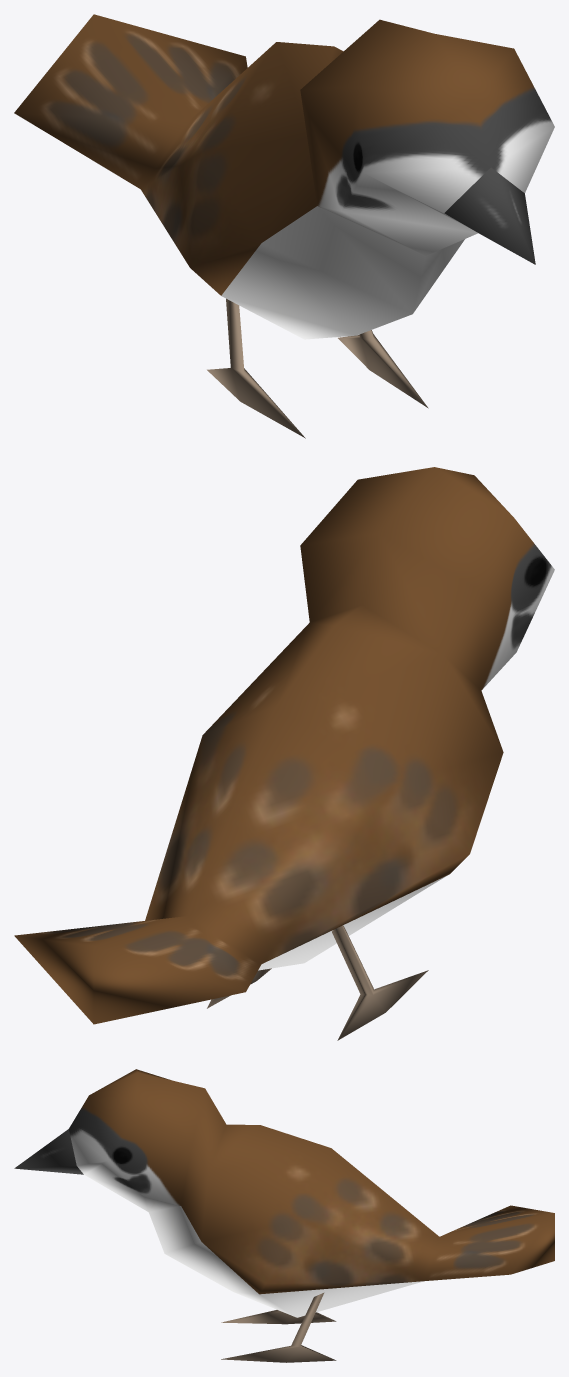
File: suzume.fbx
The picture shows the model from 3 angles, top to bottom: view 1: azimuth 30°, elevation 25°; view 2: azimuth 150°, elevation 25°; view 3: azimuth 270°, elevation 25°; orthographic projection. The views are drawn at different scales.
Parts seen in each view (by area): view 1: suzume; view 2: suzume; view 3: suzume.
Part boxes in pixels (x1,y1,x2,y2): suzume: [14, 14, 554, 438]; suzume: [14, 467, 554, 1040]; suzume: [14, 1069, 554, 1362].
Bounding box in the file's own units: 1.62 × 2.42 × 4.42.
1 material, 1 textured.
